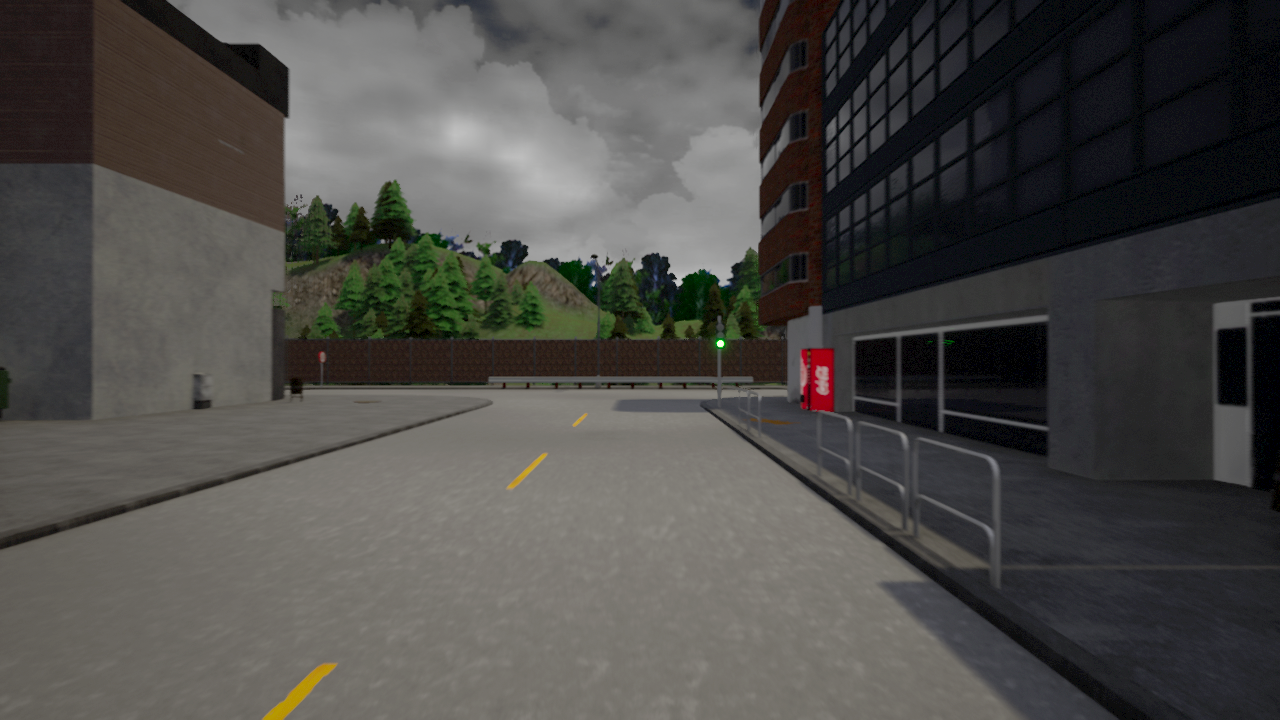green: (713, 322, 726, 348)
